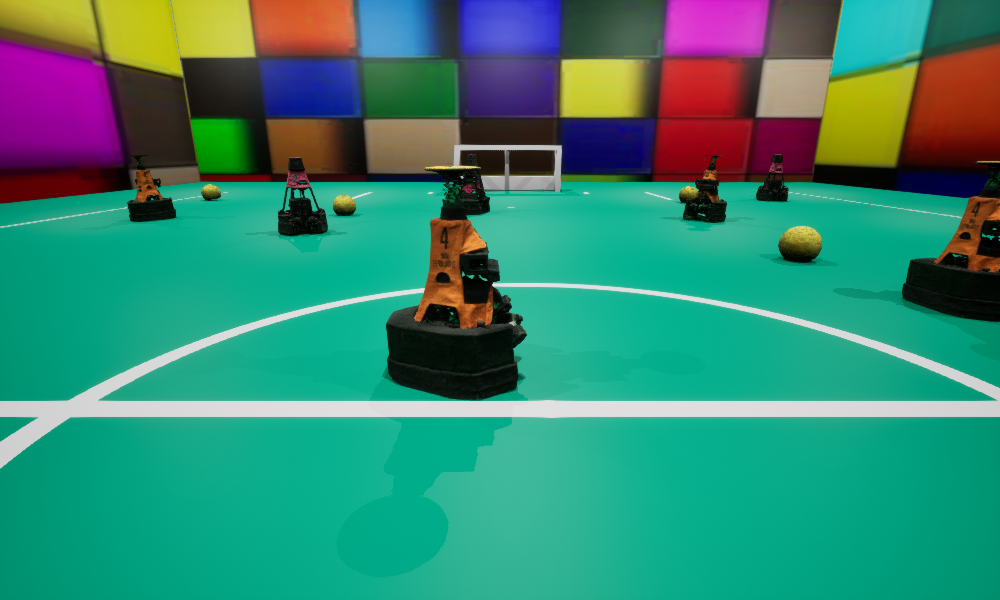b: (778, 226, 821, 261), (333, 195, 355, 215), (679, 186, 697, 202), (201, 184, 220, 199)
o: (386, 165, 526, 399), (902, 161, 999, 321), (127, 155, 175, 221), (683, 155, 726, 221)
p1: (458, 154, 489, 214)
p2: (278, 157, 327, 235), (756, 154, 788, 201)
